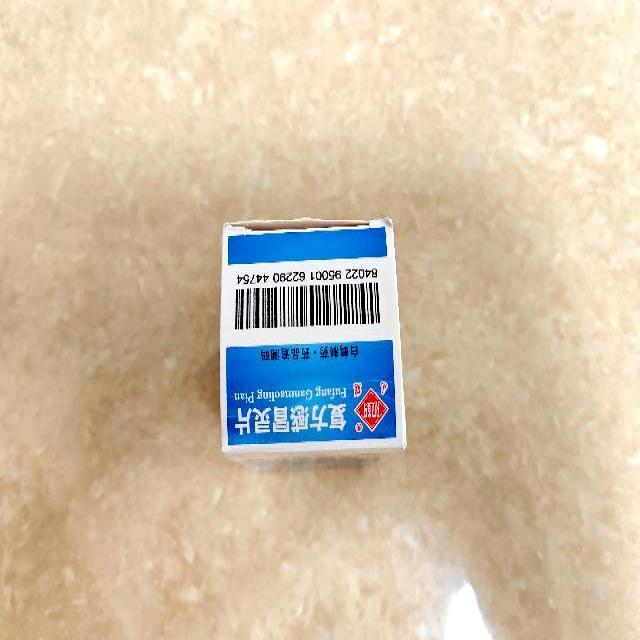box: (220, 214, 408, 456)
